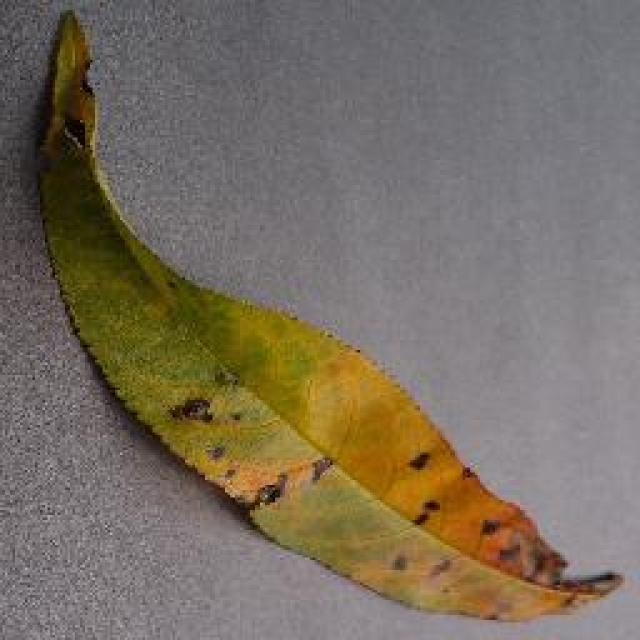Peach_Bacterial_Spot: (122, 267, 618, 625)
